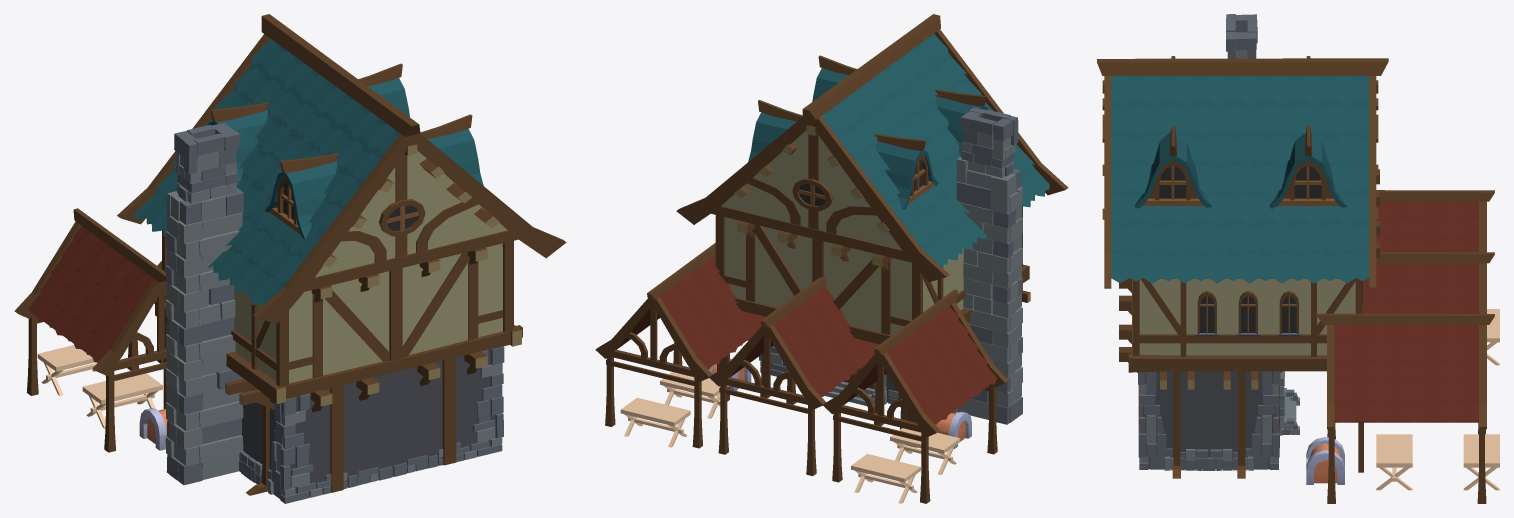
File: london_bank_3.glb
3 views of the same model, side by side, from view 1: azimuth 30°, elevation 25°; view 2: azimuth 150°, elevation 25°; view 3: azimuth 270°, elevation 25° (orthographic). The views are drawn at different scales.
Parts seen in each view (by area): view 1: House_2, Gazebo, tableCross(Clone) (×2); view 2: House_2, Gazebo (×3), tableCross(Clone) (×4), lid; view 3: House_2, Gazebo (×3), tableCross(Clone) (×3), lid, chest.
Boxes of the visible parts, x1,y1,x2,y2 form: House_2: [117, 14, 566, 503]; Gazebo: [14, 208, 167, 452]; tableCross(Clone) (×2): [37, 345, 162, 428]; House_2: [676, 14, 1068, 447]; Gazebo (×3): [595, 243, 1008, 503]; tableCross(Clone) (×4): [620, 372, 960, 503]; lid: [935, 411, 971, 436]; House_2: [1097, 14, 1388, 478]; Gazebo (×3): [1316, 190, 1494, 503]; tableCross(Clone) (×3): [1376, 309, 1499, 490]; lid: [1306, 437, 1344, 470]; chest: [1306, 457, 1344, 484].
Size of the model in its own units: 21.66 by 19.5 by 19.86.
13 materials, 1 textured.
